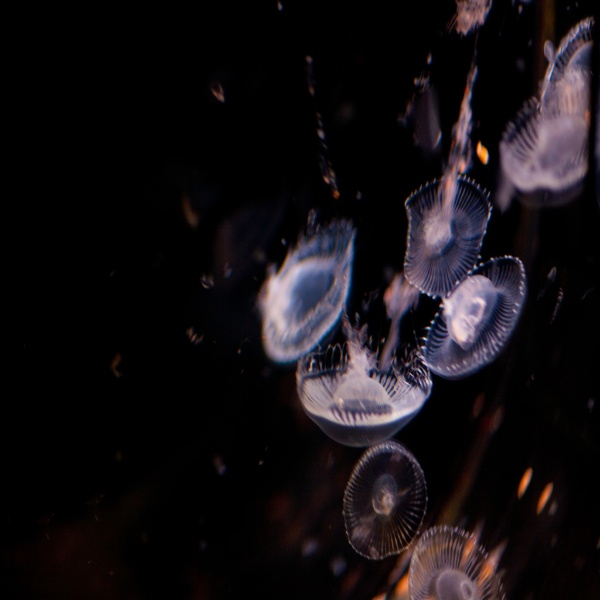Jellyfish: (402, 67, 491, 301), (297, 299, 430, 452), (497, 12, 599, 198), (253, 213, 356, 361), (417, 255, 526, 375), (344, 441, 431, 560), (408, 521, 505, 599)
